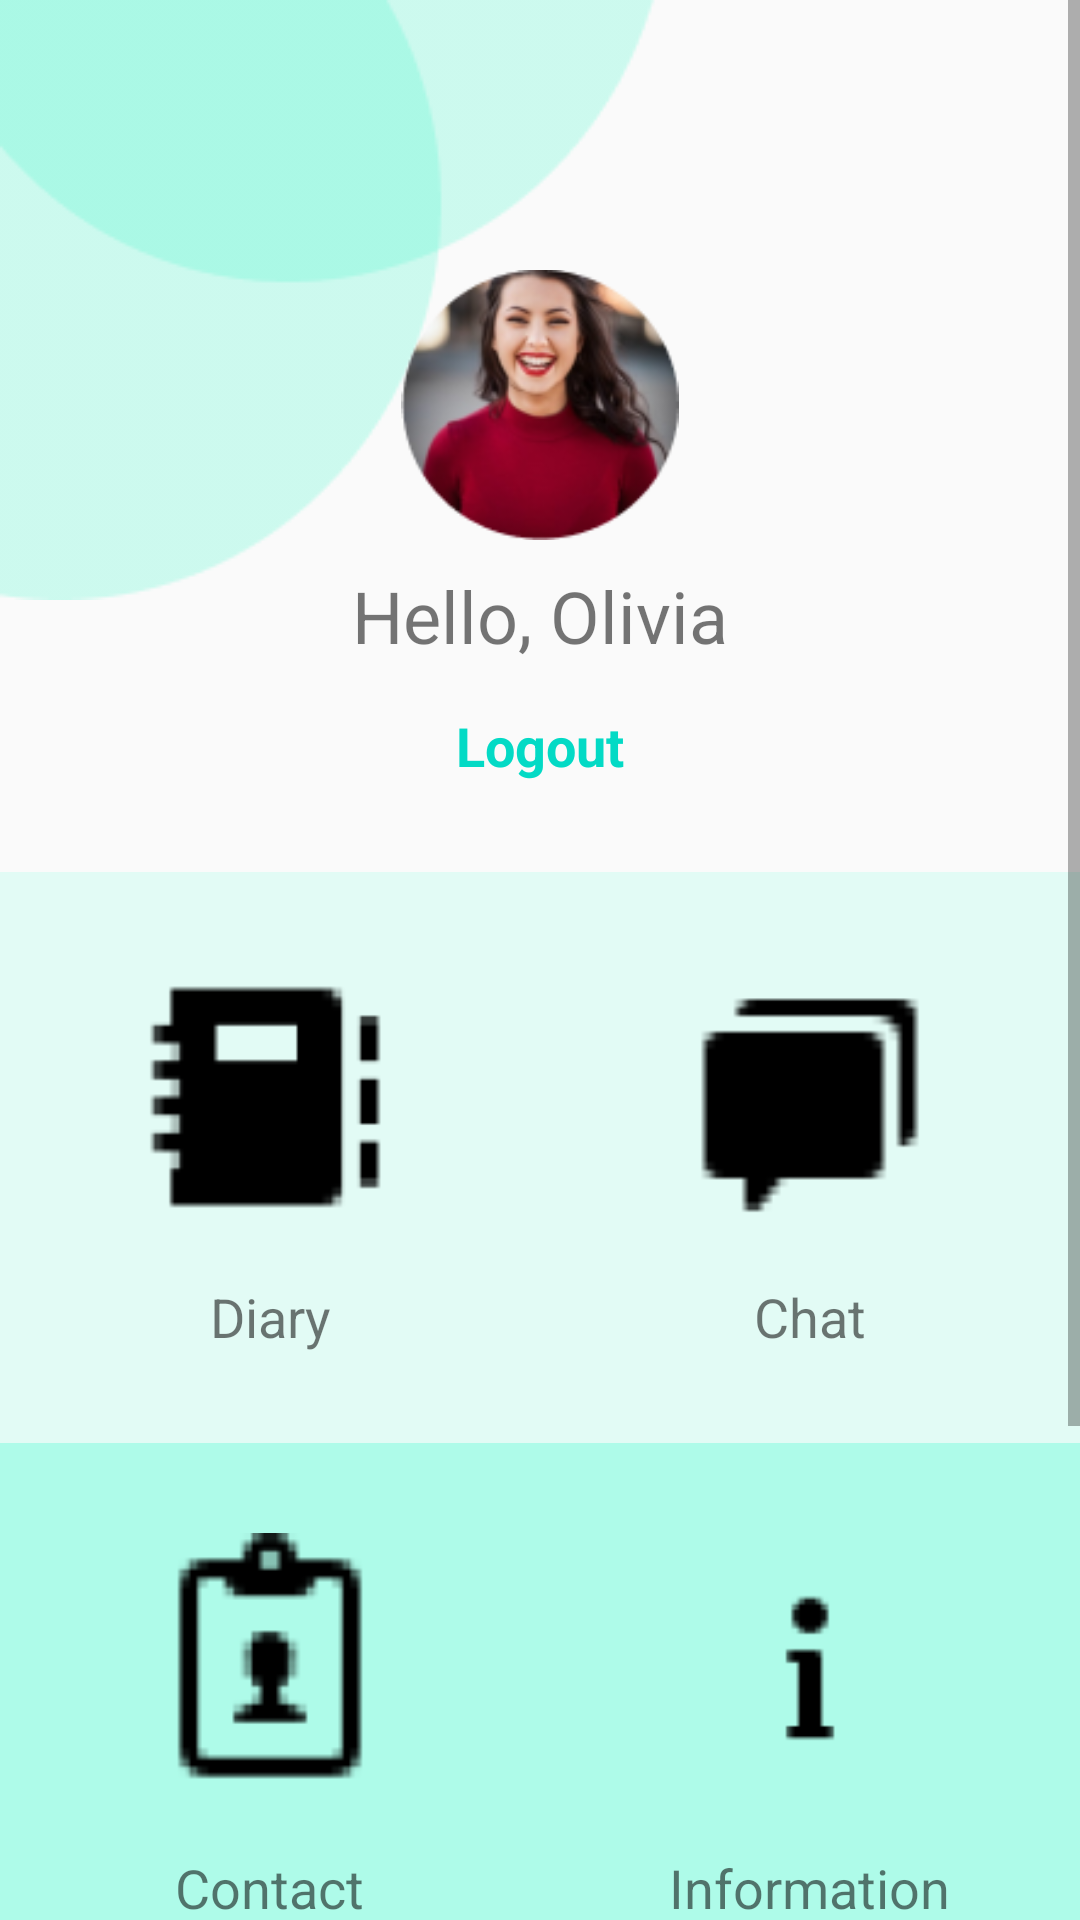

Where to tap for icons on this 1080px×1920px app screen, as (x=x, y=y):
copybook: (x=265, y=1097)
